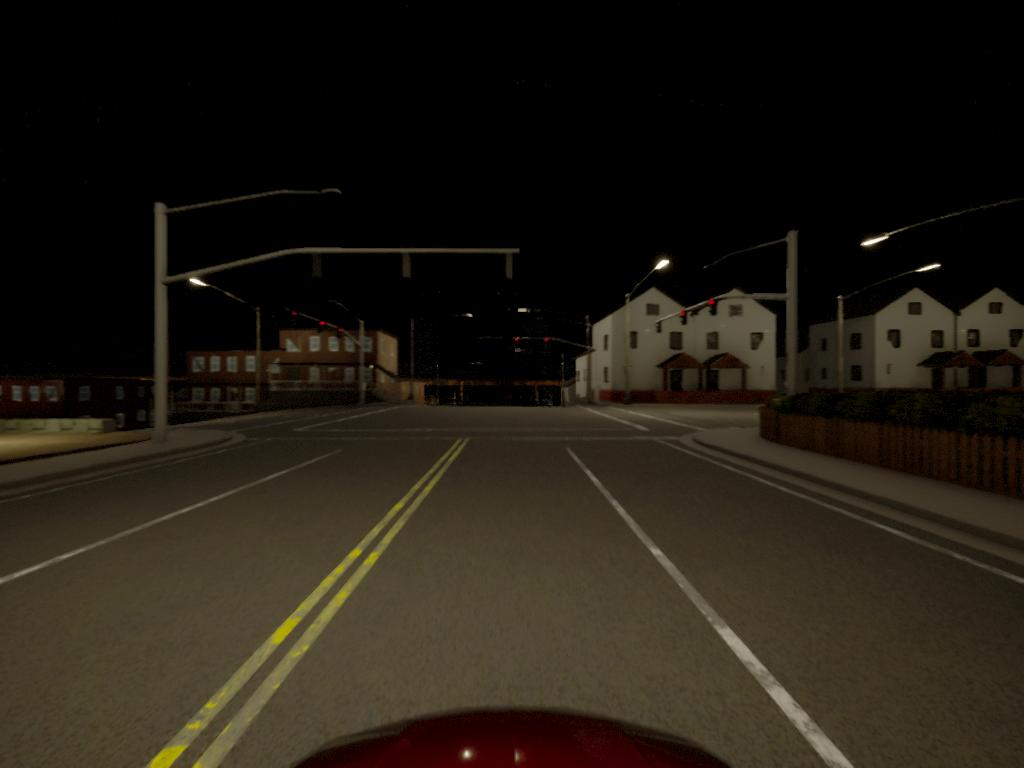traffic_light: (709, 300, 717, 316), (681, 311, 688, 325), (292, 311, 299, 324), (320, 319, 326, 334), (656, 322, 663, 334), (544, 337, 552, 347), (339, 327, 344, 339), (516, 338, 521, 344)
